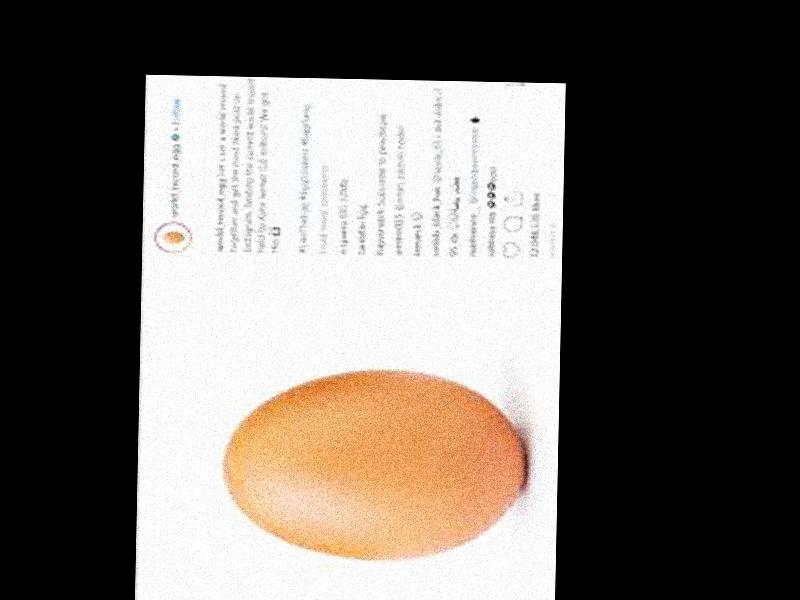Eggs: (221, 367, 524, 565)
